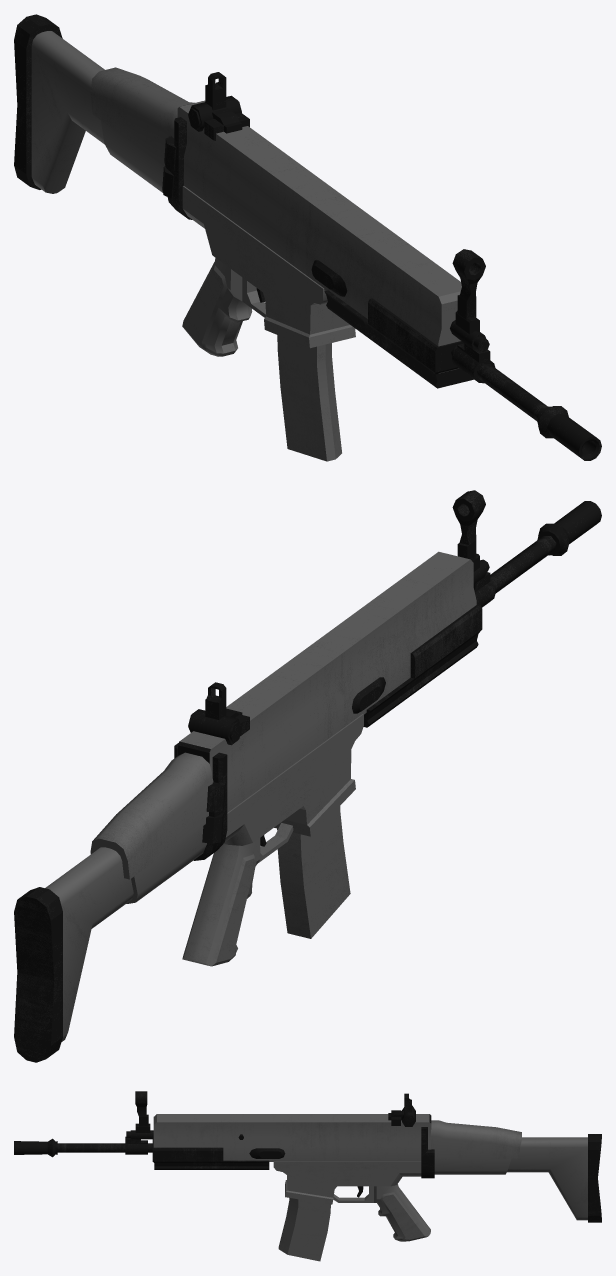
The model's file is scar.fbx.
3 views of the same model, one above another, from view 1: azimuth 30°, elevation 25°; view 2: azimuth 150°, elevation 25°; view 3: azimuth 270°, elevation 25° (orthographic). The views are drawn at different scales.
Parts seen in each view (by area): view 1: s.016; view 2: s.016; view 3: s.016.
Part boxes in pixels (<box>): s.016: <box>14,14,601,461</box>; s.016: <box>14,490,601,1062</box>; s.016: <box>14,1091,601,1261</box>.
Bounding box in the file's own units: 0.0561 × 0.3167 × 1.01.
